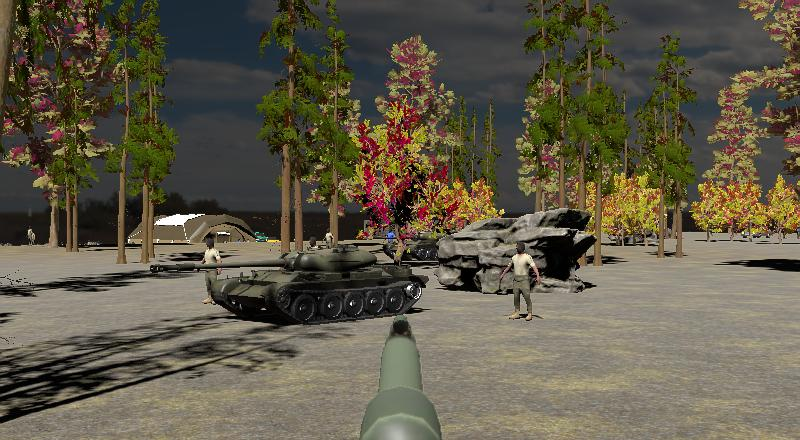Human: (497, 240, 543, 323), (198, 235, 223, 305)
Tank: (147, 244, 432, 326), (379, 229, 444, 262)
